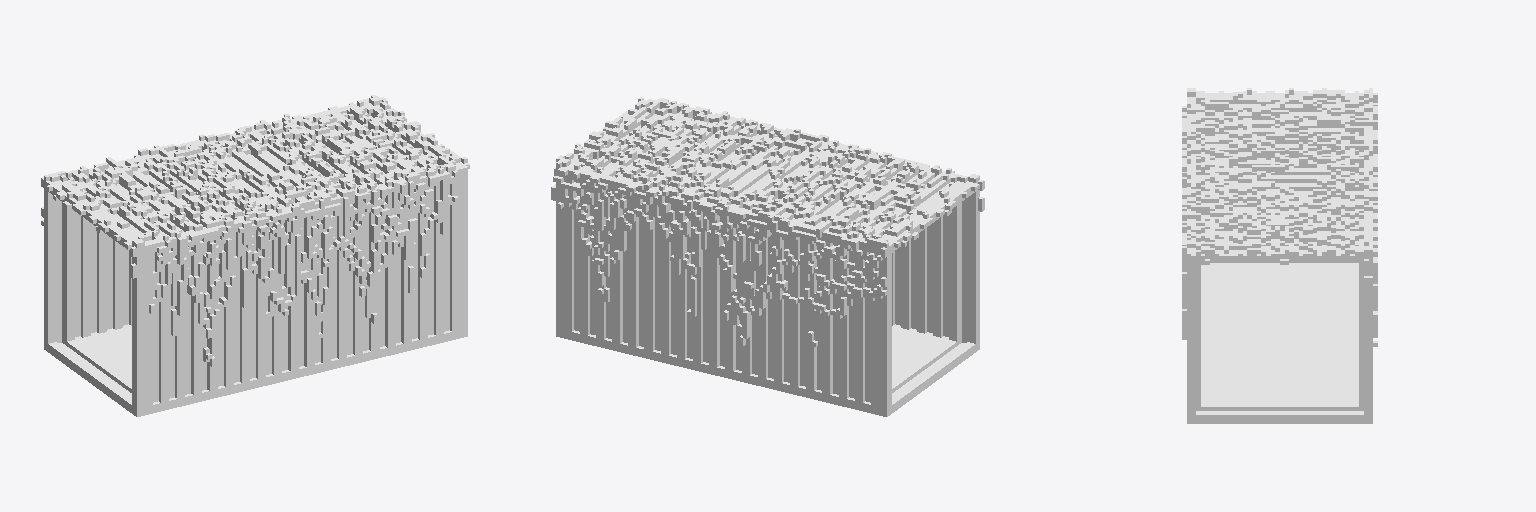
File: ContenedorAbierto-Yellow.obj
The picture shows the model from 3 angles: view 1: azimuth 30°, elevation 25°; view 2: azimuth 150°, elevation 25°; view 3: azimuth 270°, elevation 25°; orthographic projection.
Parts seen in each view (by area): view 1: object 1; view 2: object 1; view 3: object 1.
Boxes of the visible parts, box(x1,y1,x2,y2) form: object 1: box(41, 95, 469, 416); object 1: box(551, 97, 984, 416); object 1: box(1182, 88, 1377, 423).
Size of the model in its own units: 8.4 by 4.1 by 4.2.